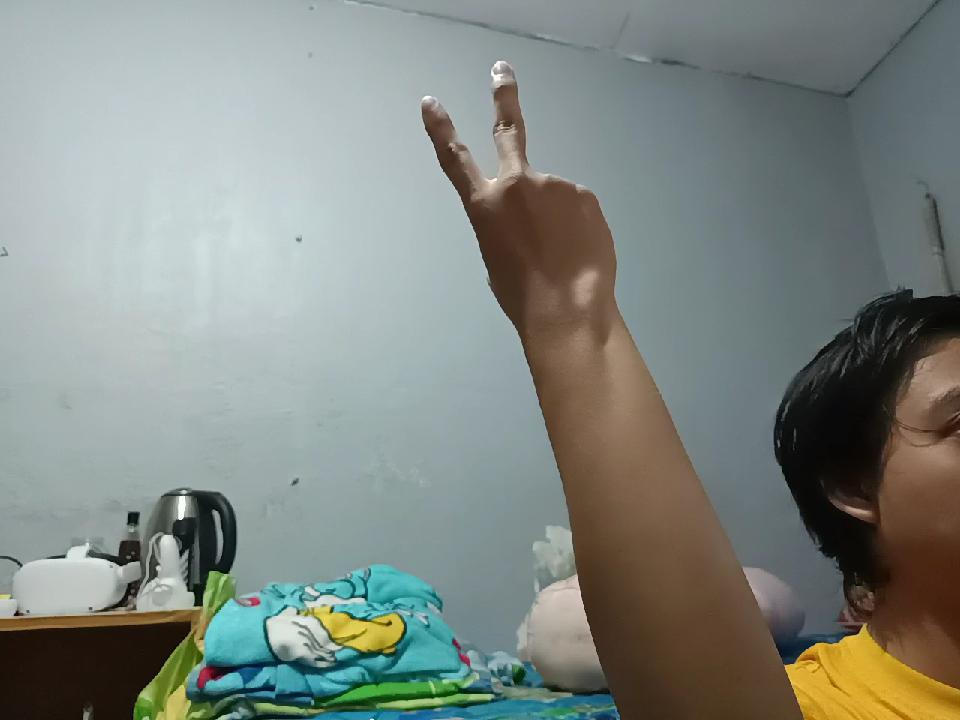scissors: (409, 58, 606, 338)
